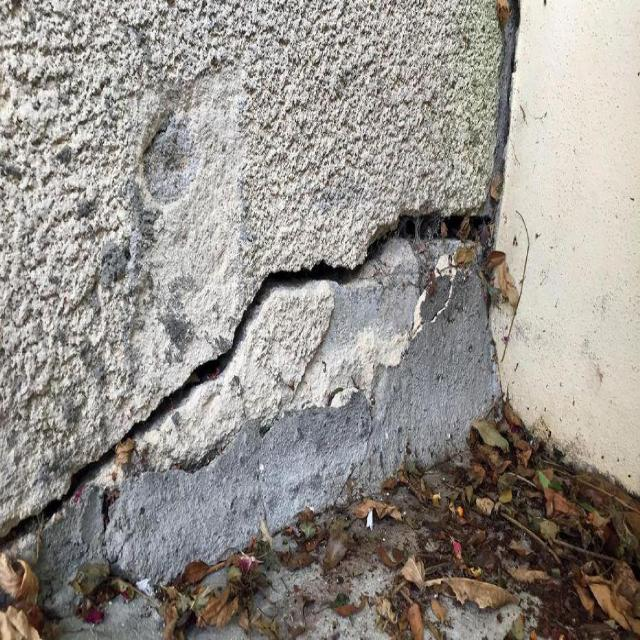crack: (0, 215, 490, 548)
